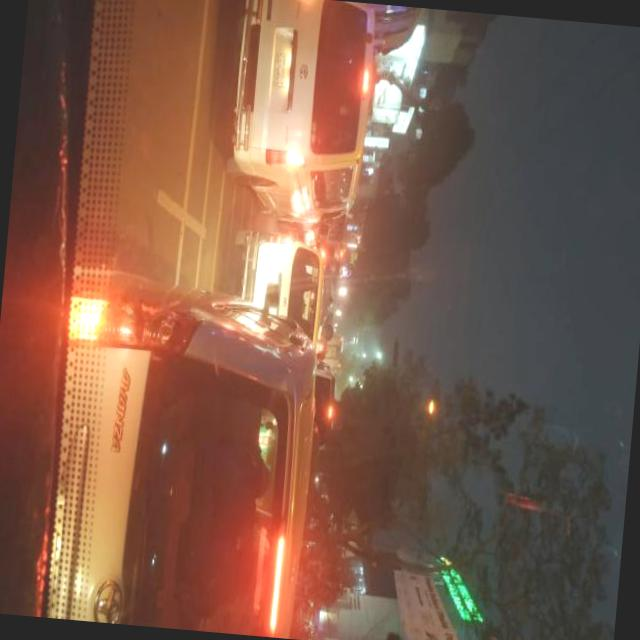car: (46, 259, 326, 636), (222, 226, 330, 346)
truck: (212, 0, 382, 234)
